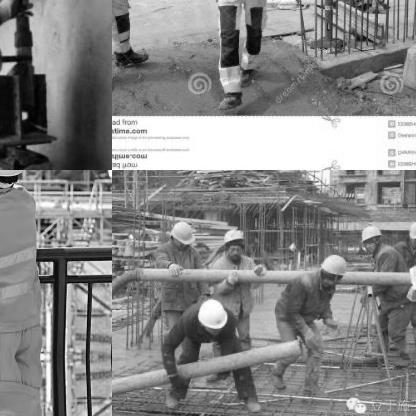Helmet: (318, 249, 349, 287), (194, 296, 226, 330), (220, 224, 244, 258), (167, 218, 193, 248), (358, 221, 382, 250), (405, 217, 415, 247)
